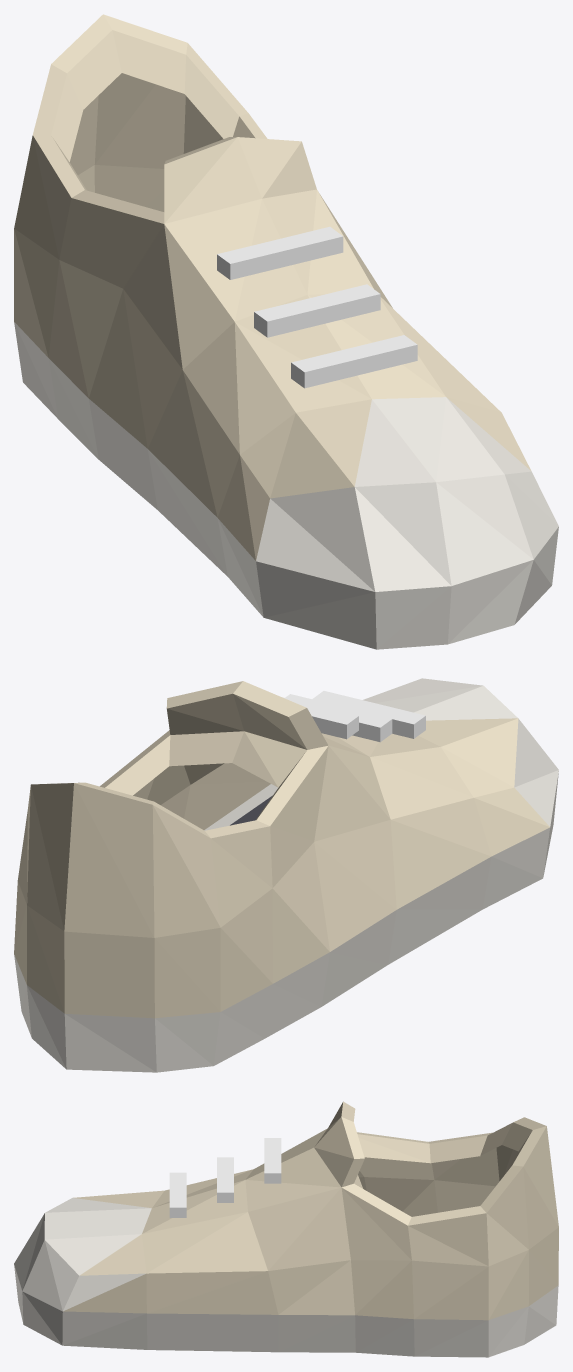
Rendered from starter_canvas.glb.
3 renders of one model, top to bottom at view 1: azimuth 30°, elevation 25°; view 2: azimuth 150°, elevation 25°; view 3: azimuth 270°, elevation 25°, orthographic. The views are drawn at different scales.
Parts seen in each view (by area): view 1: starter_canvas; view 2: starter_canvas; view 3: starter_canvas.
Boxes of the visible parts, <box> form: starter_canvas: <box>14,14,558,649</box>; starter_canvas: <box>14,678,558,1072</box>; starter_canvas: <box>14,1101,558,1357</box>.
Size of the model in its own units: 0.1164 by 0.1186 by 0.2877.
